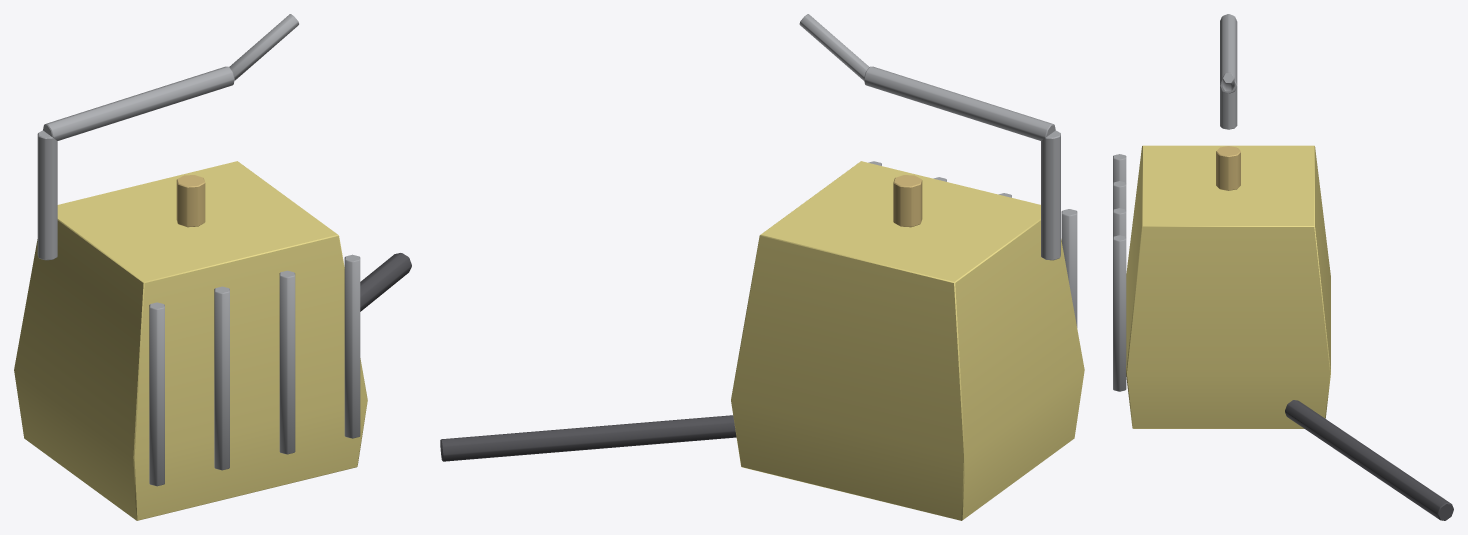
Rendered from IT_lamp_portable.fbx.
3 views of the same model, side by side, from view 1: azimuth 30°, elevation 25°; view 2: azimuth 150°, elevation 25°; view 3: azimuth 270°, elevation 25° (orthographic). The views are drawn at different scales.
Parts seen in each view (by area): view 1: IT_lamp_portable; view 2: IT_lamp_portable; view 3: IT_lamp_portable.
Boxes of the visible parts, x1,y1,x2,y2 form: IT_lamp_portable: [14, 14, 411, 520]; IT_lamp_portable: [440, 14, 1084, 520]; IT_lamp_portable: [1113, 14, 1453, 520].
Size of the model in its own units: 0.762 by 0.6068 by 0.5324.
